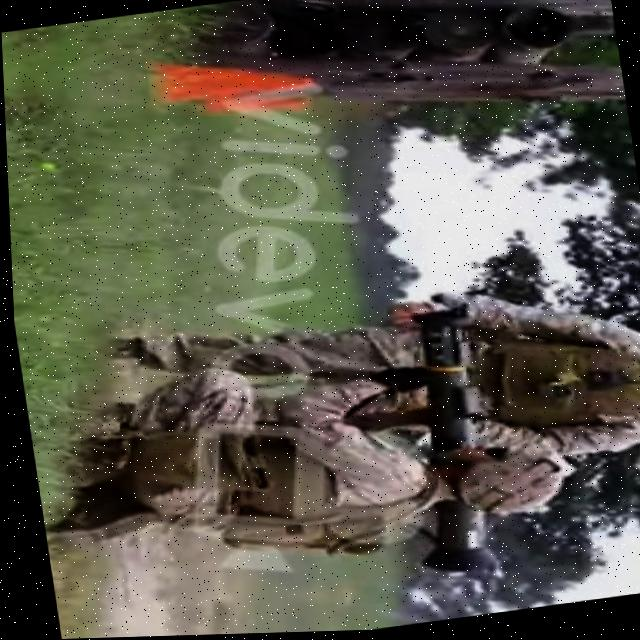rocket: (369, 293, 539, 587)
